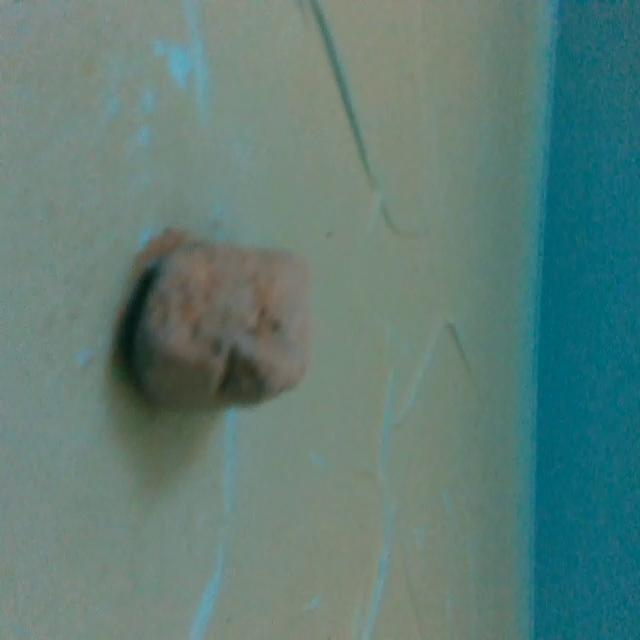rock: (117, 230, 320, 423)
